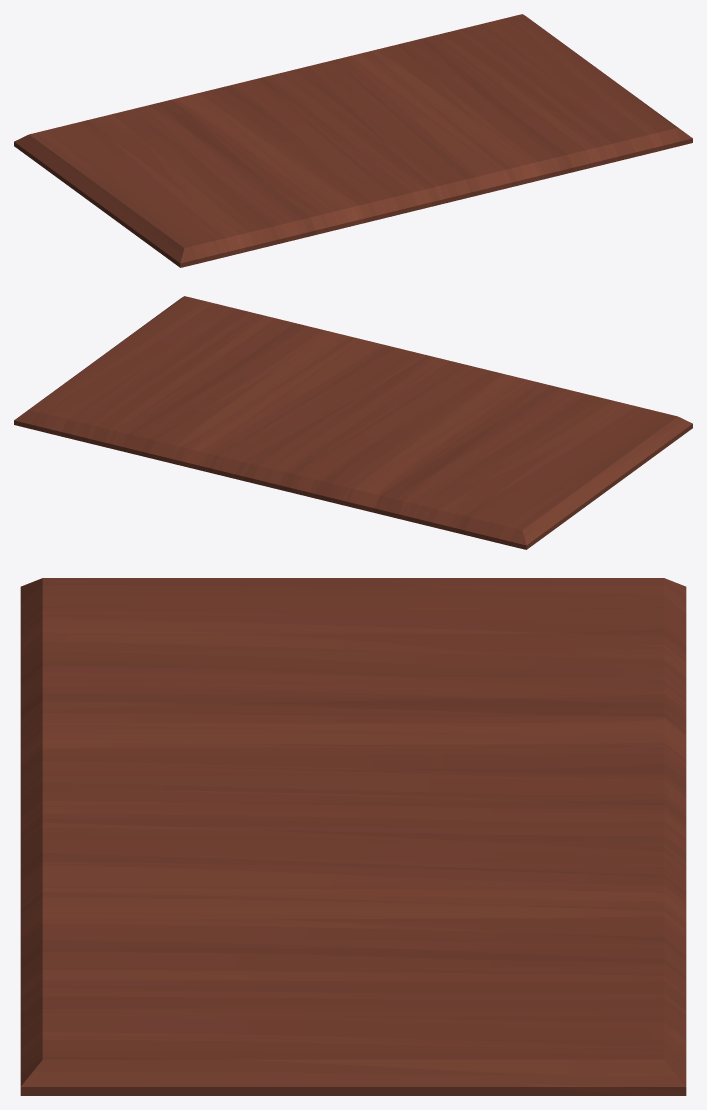
File: ClosetLedge_Mod.FBX
The picture shows the model from 3 angles, top to bottom: view 1: azimuth 30°, elevation 25°; view 2: azimuth 150°, elevation 25°; view 3: azimuth 270°, elevation 25°; orthographic projection. The views are drawn at different scales.
Visible parts, largest first — view 1: ClosetLedge; view 2: ClosetLedge; view 3: ClosetLedge.
Boxes of the visible parts, bbox=[...] form: ClosetLedge: bbox=[14, 14, 692, 267]; ClosetLedge: bbox=[14, 296, 692, 549]; ClosetLedge: bbox=[20, 578, 686, 1095].
Bounding box in the file's own units: 1.2 × 0.05 × 0.6734.
1 material, 1 textured.
